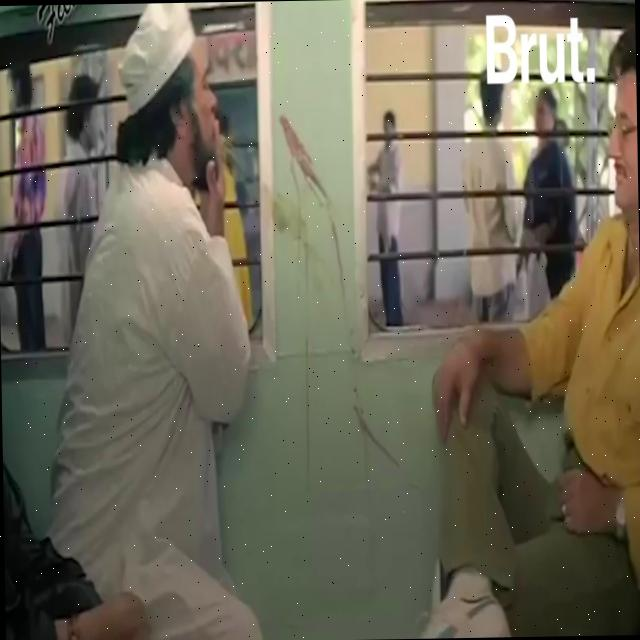spit: (114, 12, 378, 298)
